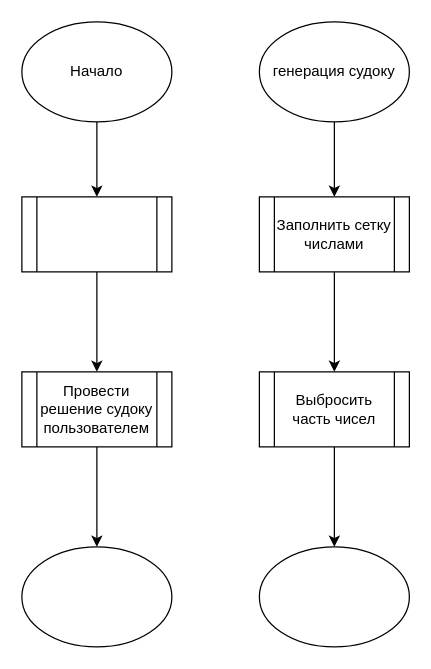
The diagram is 431 pixels wide and 669 high, and some of its shapes have lost their labels. The box of each missing label's shape, as (x1, y1, x2, y2) in pixels:
Выход: (258, 546, 409, 647)
Конец: (21, 546, 172, 647)
Сгенерировать судоку: (21, 196, 172, 272)
